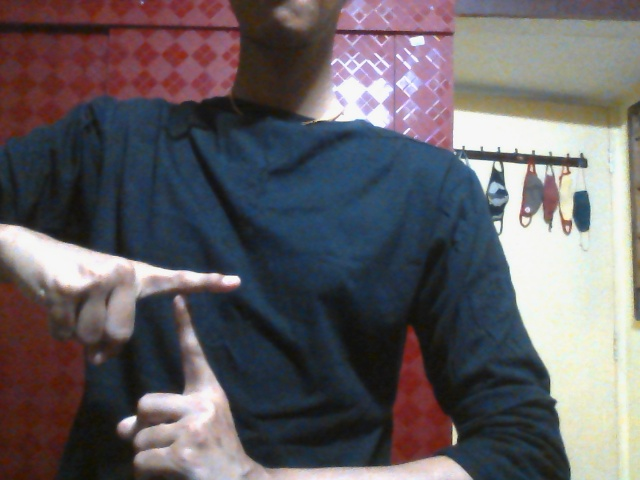T: (24, 227, 243, 480)
